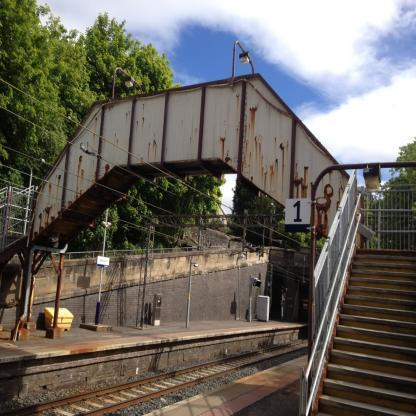stair: (301, 230, 416, 416)
